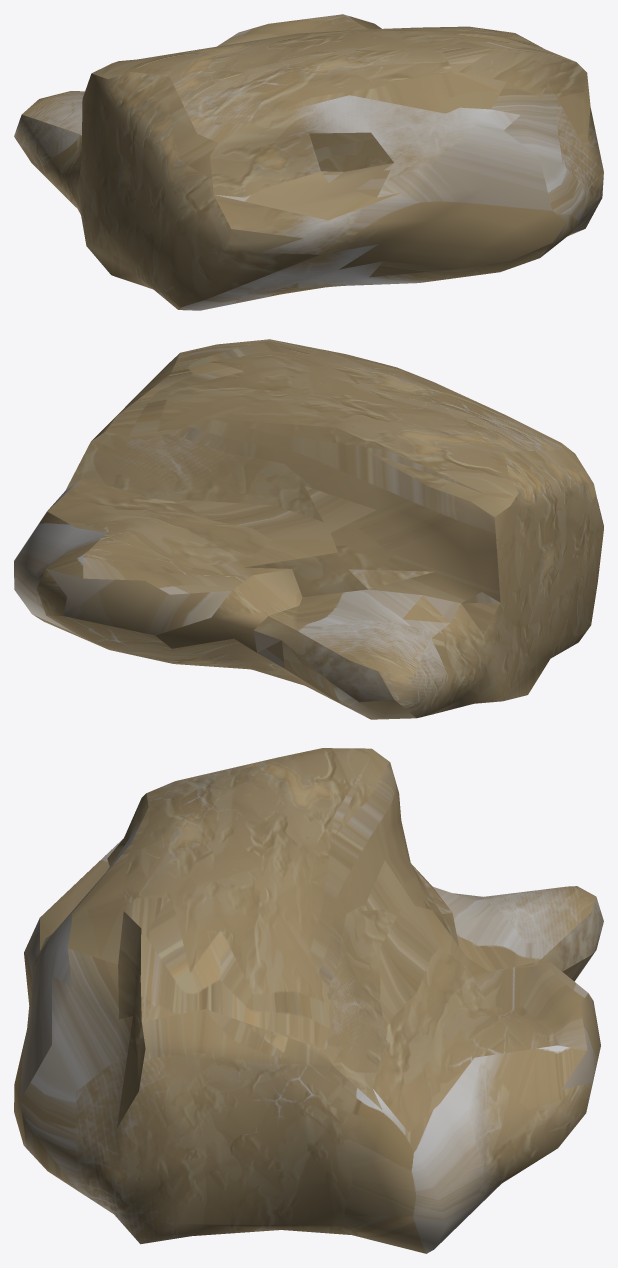
Rendered from taskahofixed.fbx.
The picture shows the model from 3 angles, top to bottom: view 1: azimuth 30°, elevation 25°; view 2: azimuth 150°, elevation 25°; view 3: azimuth 270°, elevation 25°; orthographic projection. The views are drawn at different scales.
Visible parts, largest first — view 1: Cube_004; view 2: Cube_004; view 3: Cube_004.
Boxes of the visible parts, bbox=[...] form: Cube_004: bbox=[14, 14, 603, 310]; Cube_004: bbox=[14, 339, 603, 719]; Cube_004: bbox=[14, 748, 603, 1253].
Size of the model in its own units: 12731 by 6001 by 11585.
